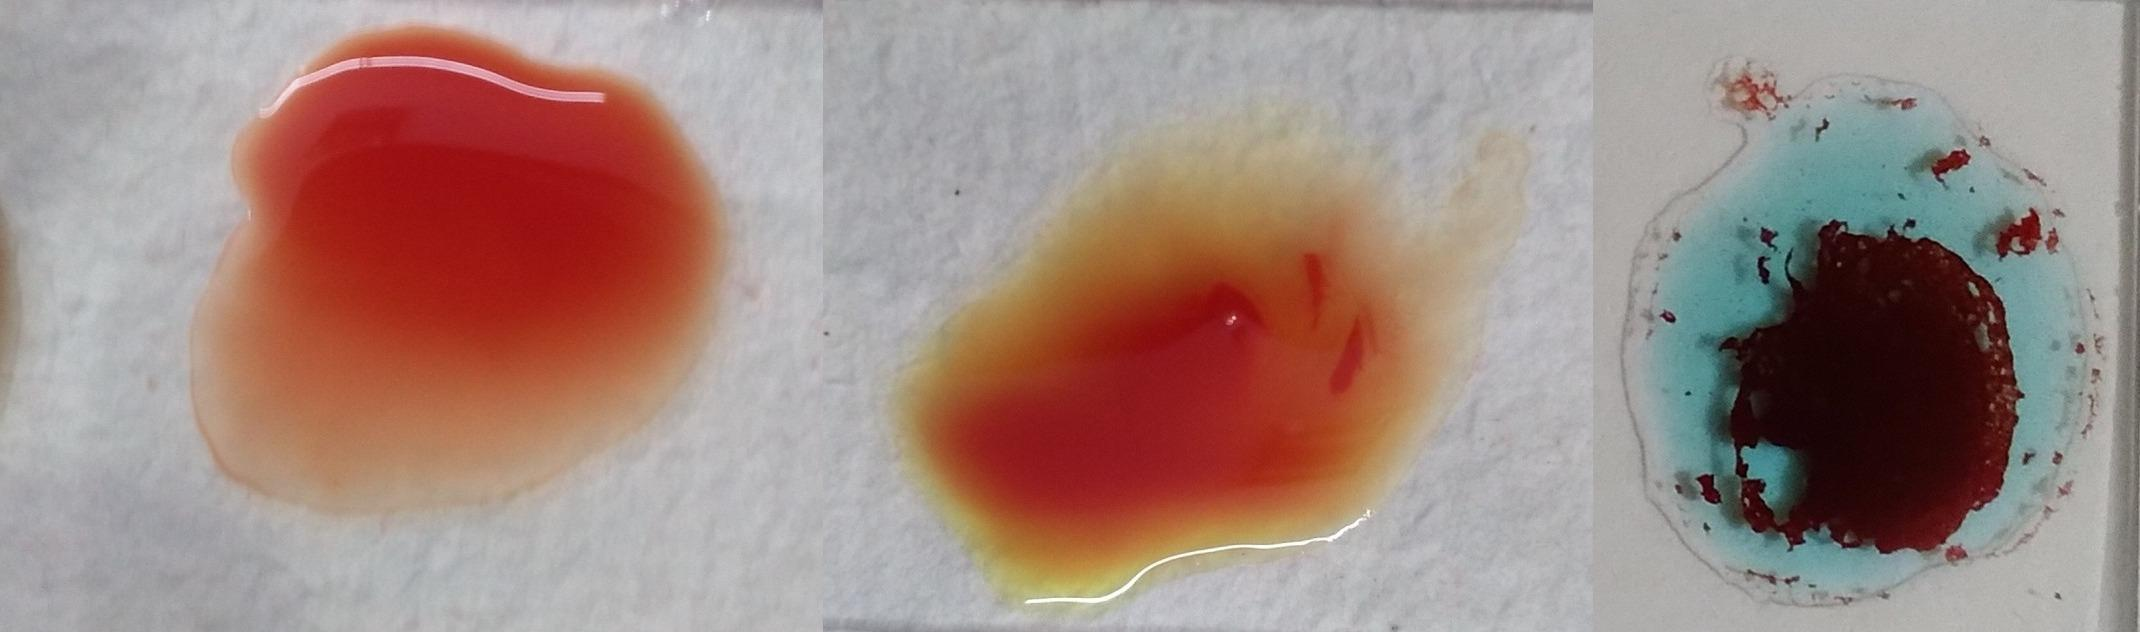A: (1627, 75, 2095, 601)
